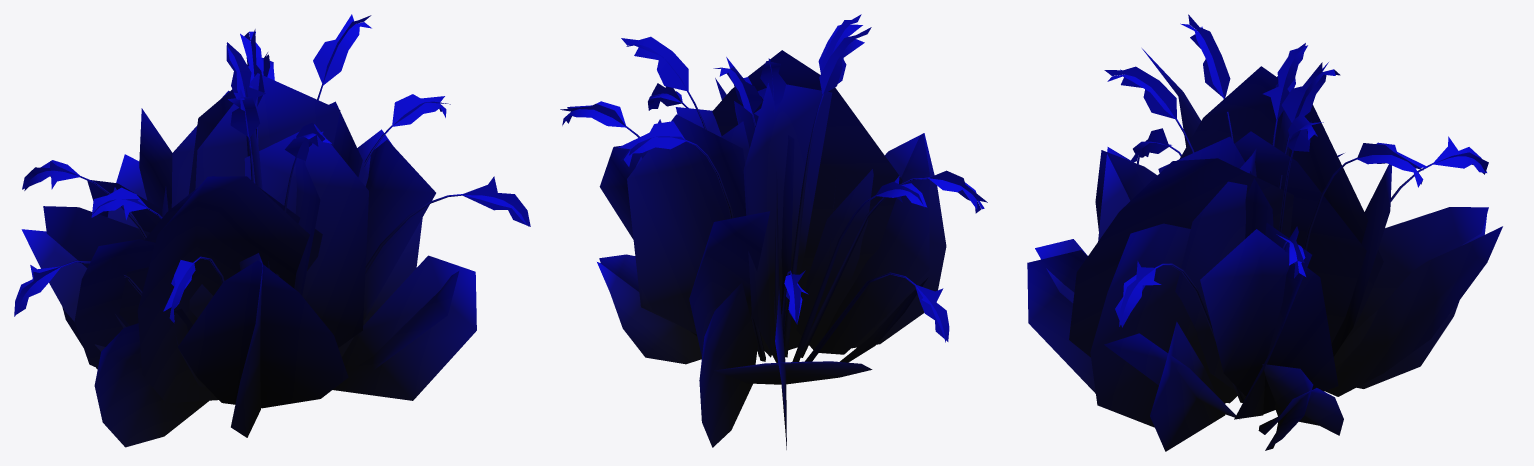
File: SM_WildGrass_02.fbx
The picture shows the model from 3 angles, left to right: view 1: azimuth 30°, elevation 25°; view 2: azimuth 150°, elevation 25°; view 3: azimuth 270°, elevation 25°; orthographic projection. The views are drawn at different scales.
Visible parts, largest first — view 1: SM_WildGrass_02_LOD0; view 2: SM_WildGrass_02_LOD0; view 3: SM_WildGrass_02_LOD0.
Boxes of the visible parts, x1=… form: SM_WildGrass_02_LOD0: x1=14, y1=14, x2=530, y2=447; SM_WildGrass_02_LOD0: x1=560, y1=14, x2=987, y2=449; SM_WildGrass_02_LOD0: x1=1027, y1=14, x2=1502, y2=451.
Size of the model in its own units: 113 by 112 by 93.72.
